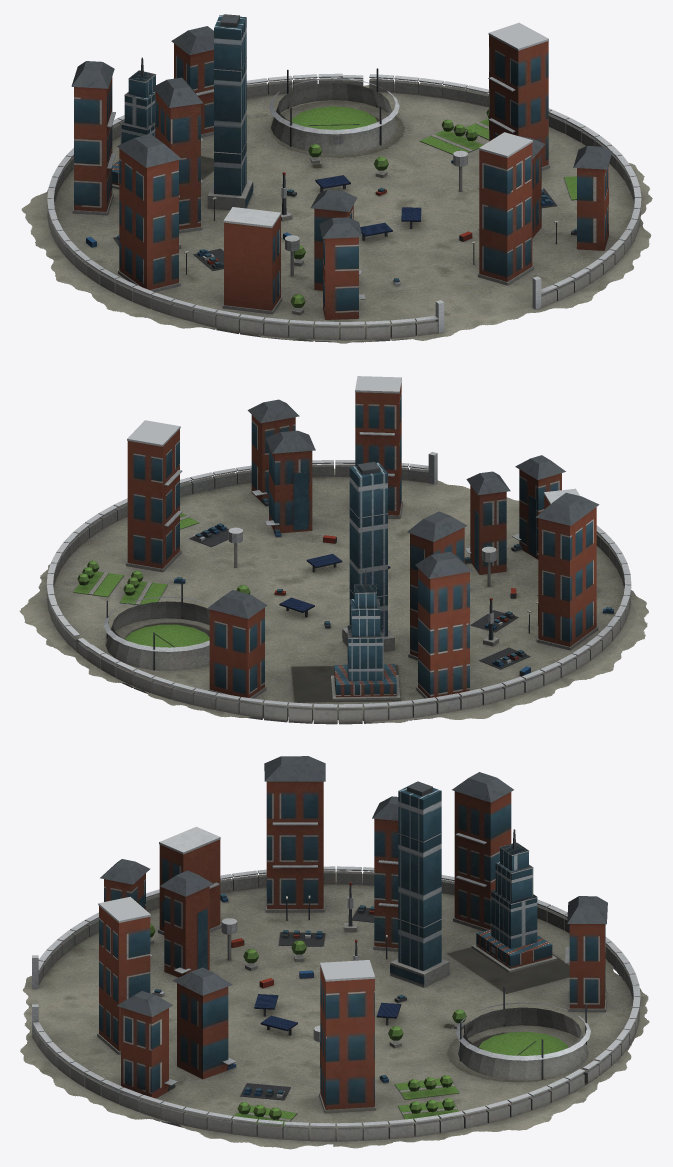
The model's file is information-town-medium-b-europe.glb.
3 renders of one model, top to bottom at view 1: azimuth 30°, elevation 25°; view 2: azimuth 150°, elevation 25°; view 3: azimuth 270°, elevation 25°, orthographic. The views are drawn at different scales.
Visible parts, largest first — view 1: LOD0; view 2: LOD0; view 3: LOD0.
Part boxes in pixels (bbox=[...]): LOD0: bbox=[21, 14, 652, 343]; LOD0: bbox=[19, 376, 648, 724]; LOD0: bbox=[20, 756, 649, 1149].
Size of what is drawn, in the model's own units: 5.96 by 1.88 by 5.74.
Materials: 3 (3 with a texture image).
